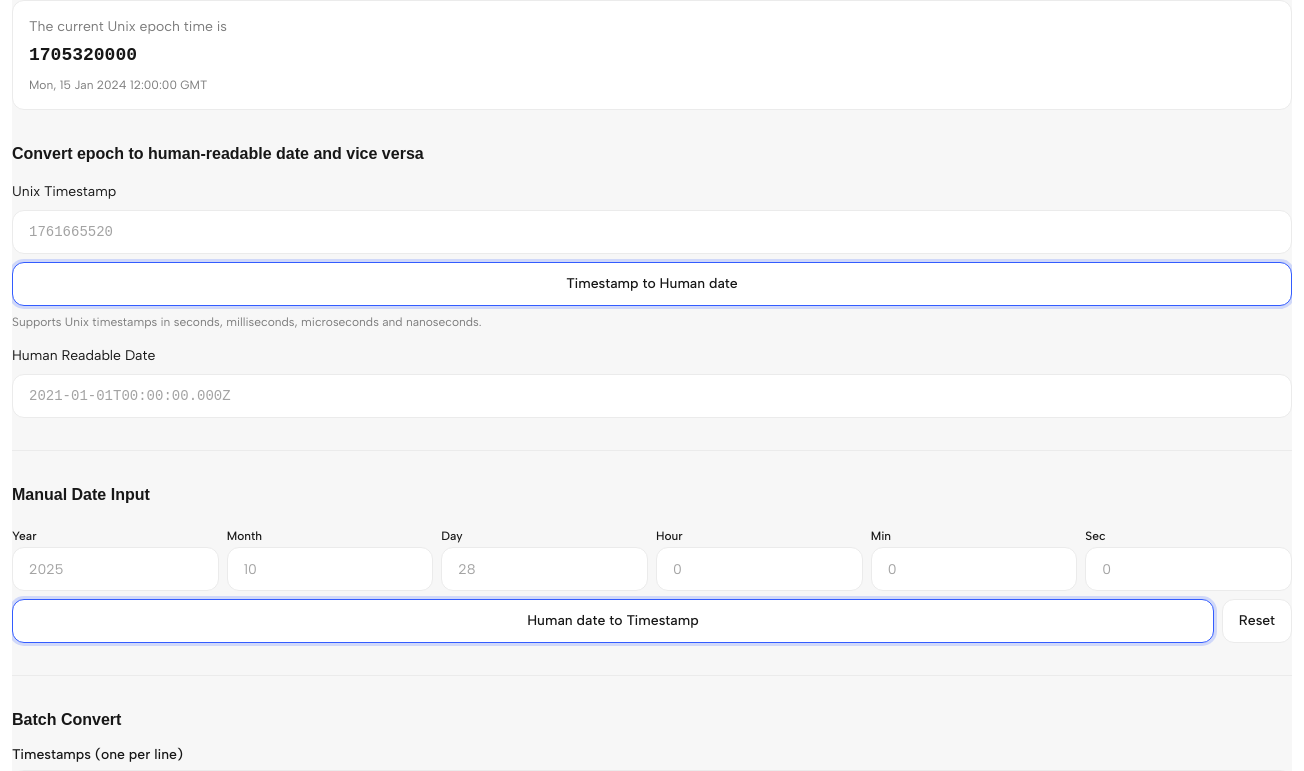
EpochConverterTool › converts timestamp to human readable date
Type "1704067200" into the field with placeholder "1761665520" at (652, 232), box 12,210 -> 1292,254
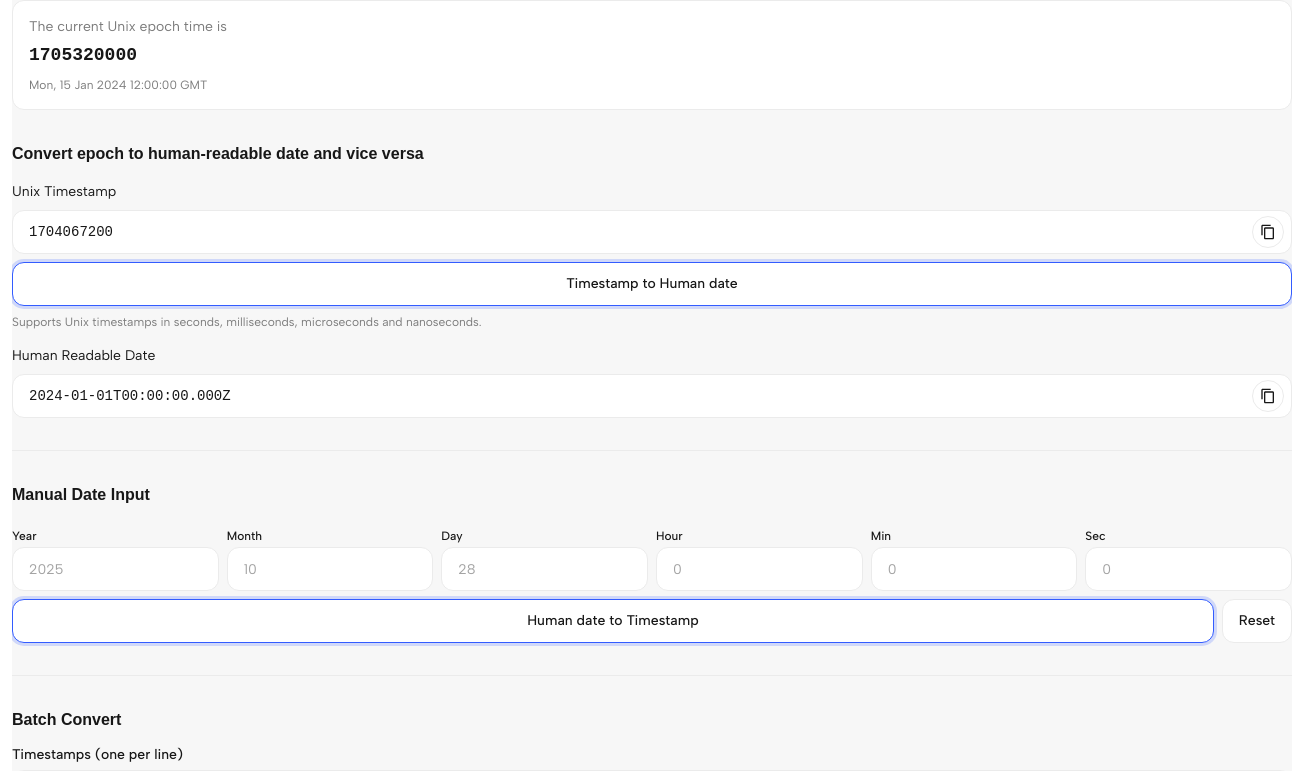
Expected: the field showing "2024-01-01T00:00:00.000Z" below "Human Readable Date" is shown, 12,374 -> 1292,418
